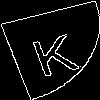K: (25, 24, 81, 78)
